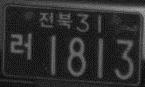1: (96, 37, 105, 80), (49, 34, 57, 77), (96, 13, 102, 34)
3: (114, 37, 134, 80), (76, 12, 89, 33)
8: (66, 36, 86, 77)
러: (9, 31, 32, 61)
전북_O: (39, 11, 72, 29)
